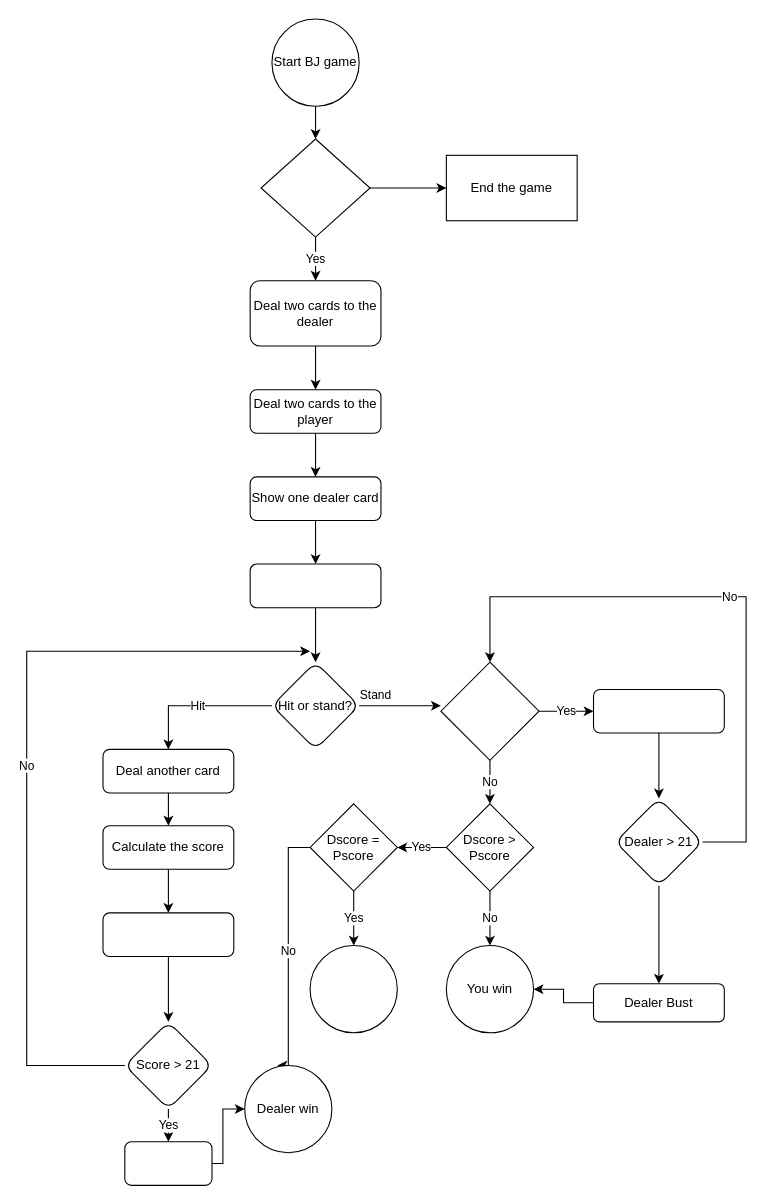
Some shapes in this 774 by 1204 pixel diagram are drawn without their labels. The shapes that lost their labels are listed below. From the top down, each one's centre as x and y in pixels, then its label:
At point (315, 187): "Do you want to play".
At point (315, 585): "Show both players cards and the curent score".
At point (489, 710): "Dealer under 17?".
At point (658, 710): "Deal another card to the dealer".
At point (168, 934): "Show the cards and the score".
At point (353, 988): "Draw".
At point (168, 1163): "Bust".
